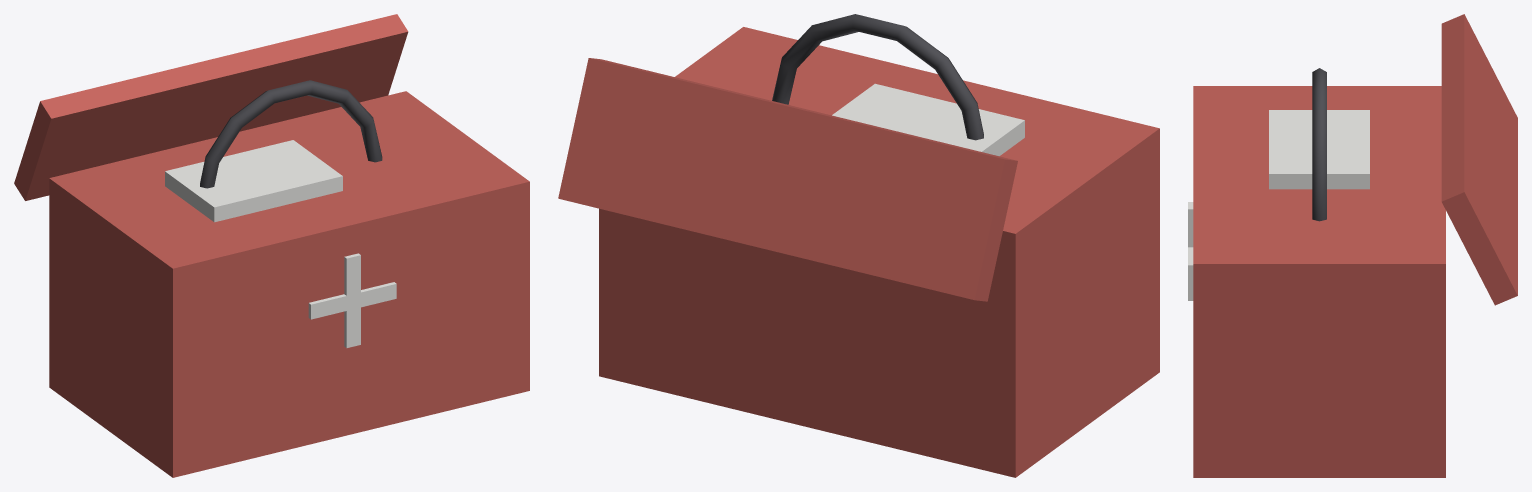
Rendered from Paramedic_bag.glb.
3 views of the same model, side by side, from view 1: azimuth 30°, elevation 25°; view 2: azimuth 150°, elevation 25°; view 3: azimuth 270°, elevation 25° (orthographic). The views are drawn at different scales.
Visible parts, largest first — view 1: Paramedic_bag; view 2: Paramedic_bag; view 3: Paramedic_bag.
Boxes of the visible parts, x1,y1,x2,y2 form: Paramedic_bag: [14, 14, 529, 477]; Paramedic_bag: [558, 14, 1159, 477]; Paramedic_bag: [1188, 14, 1517, 477].
Size of the model in its own units: 0.5 by 0.4067 by 0.3913.
